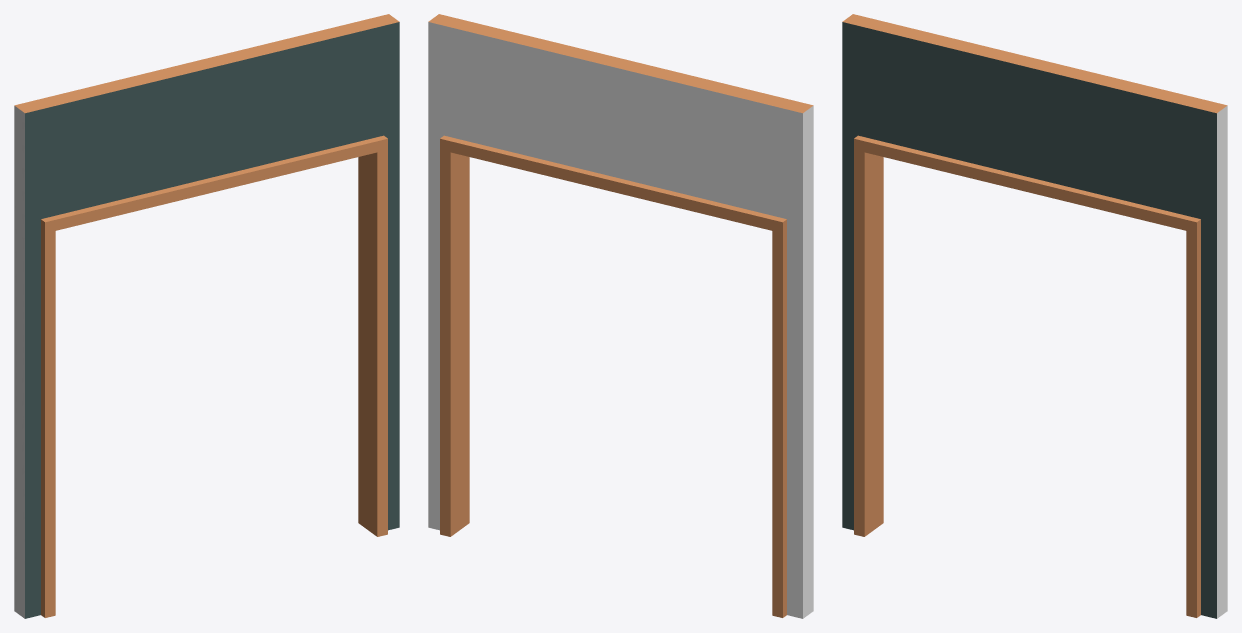
The model's file is Wall_Wall_Doorway_Wide.glb.
3 renders of one model, left to right at view 1: azimuth 30°, elevation 25°; view 2: azimuth 150°, elevation 25°; view 3: azimuth 330°, elevation 25°, orthographic.
Parts seen in each view (by area): view 1: wallDoorwayWide; view 2: wallDoorwayWide; view 3: wallDoorwayWide.
Boxes of the visible parts, x1=… form: wallDoorwayWide: x1=14, y1=14, x2=399, y2=618; wallDoorwayWide: x1=428, y1=14, x2=813, y2=618; wallDoorwayWide: x1=842, y1=14, x2=1227, y2=618.
Bounding box in the file's own units: 1 × 1.29 × 0.0891.
